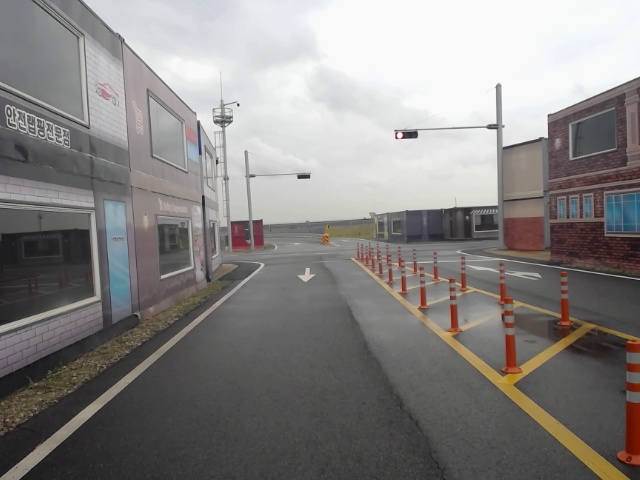red_3: (393, 129, 418, 141)
